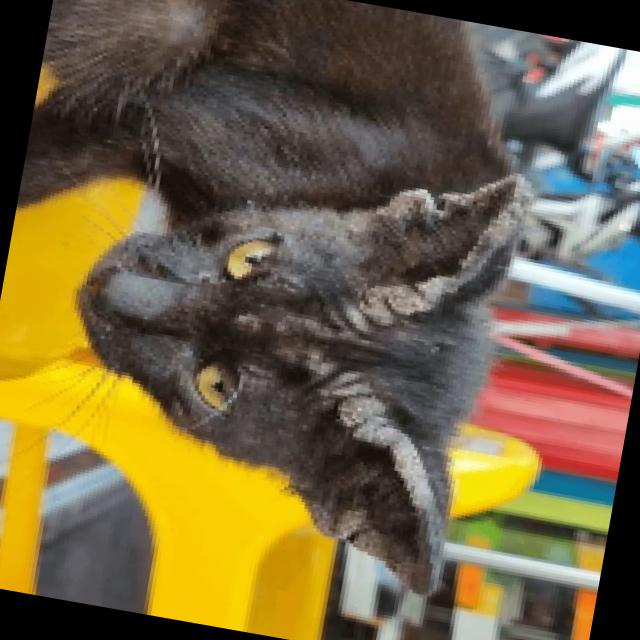Mange: (336, 168, 529, 336), (317, 373, 442, 541), (294, 495, 401, 565), (220, 302, 274, 346)
